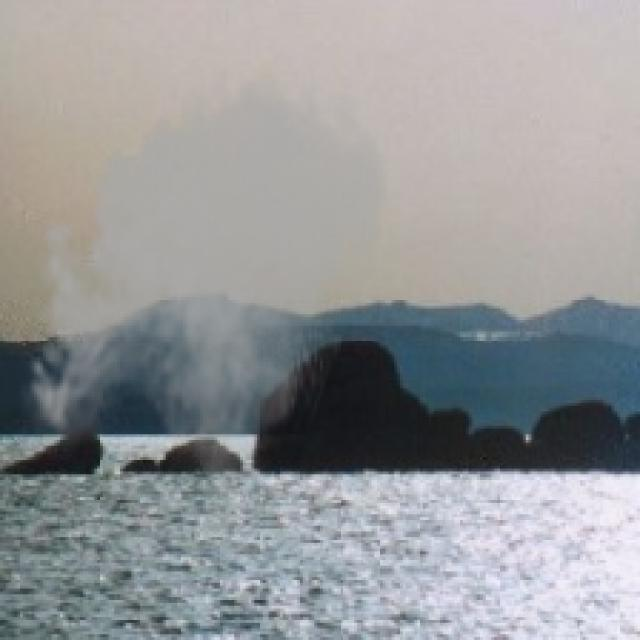smoke: (17, 60, 397, 480)
